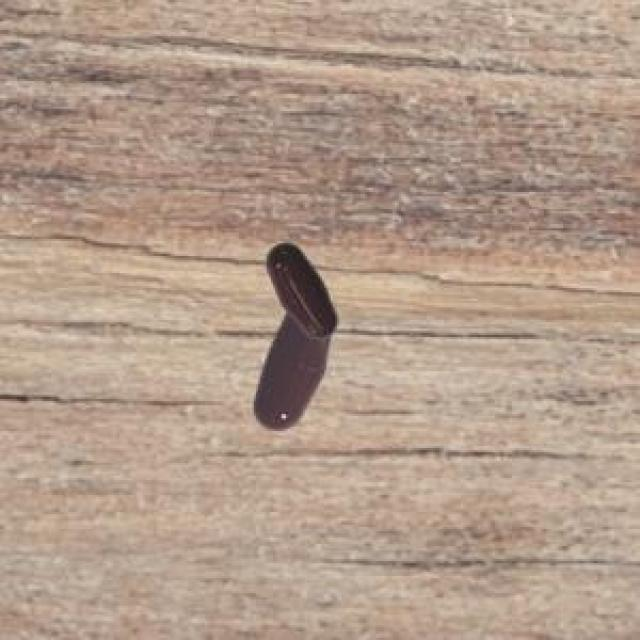DayZinc: (236, 228, 344, 437)
